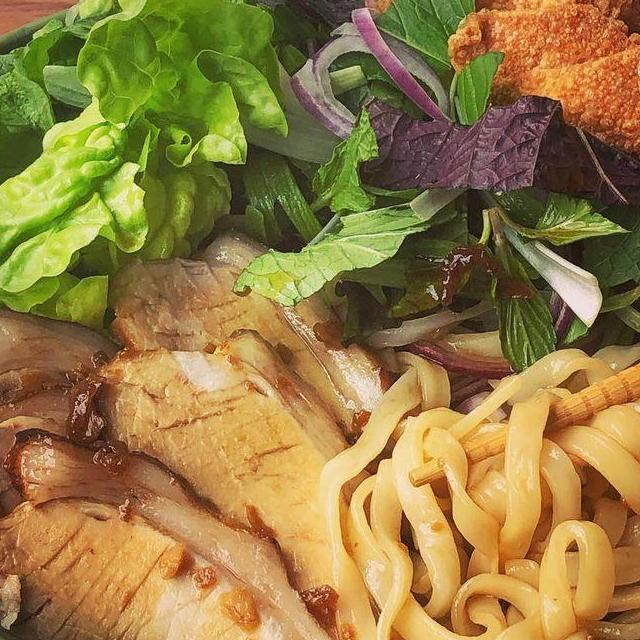banh da: (502, 3, 640, 200), (442, 0, 638, 107), (367, 0, 640, 70)
mi: (315, 294, 640, 640)
mi quang: (0, 0, 640, 640)
thit heo: (56, 338, 373, 635), (0, 423, 369, 640), (93, 222, 396, 478), (0, 298, 141, 617)
